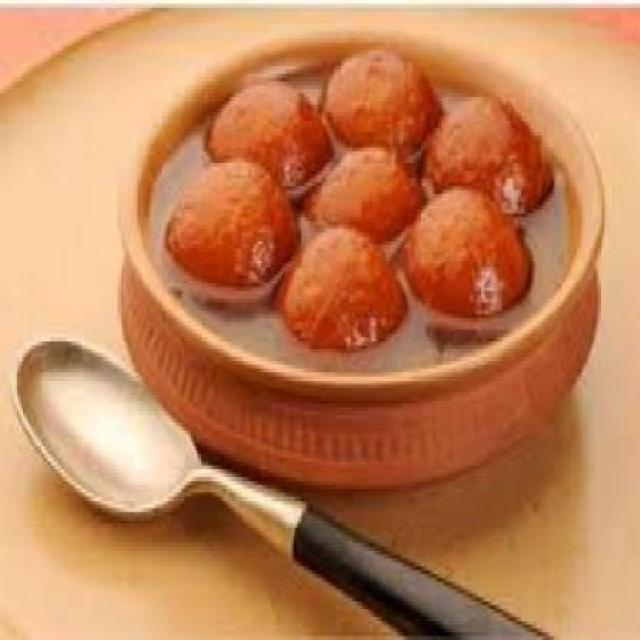gulab_jamun: (165, 158, 300, 291), (403, 188, 534, 322), (272, 228, 410, 352), (421, 95, 554, 218), (203, 83, 335, 192), (318, 46, 444, 159), (302, 148, 429, 245)
